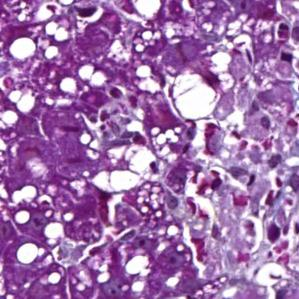inflammation: (63, 0, 115, 36), (273, 15, 299, 69)
